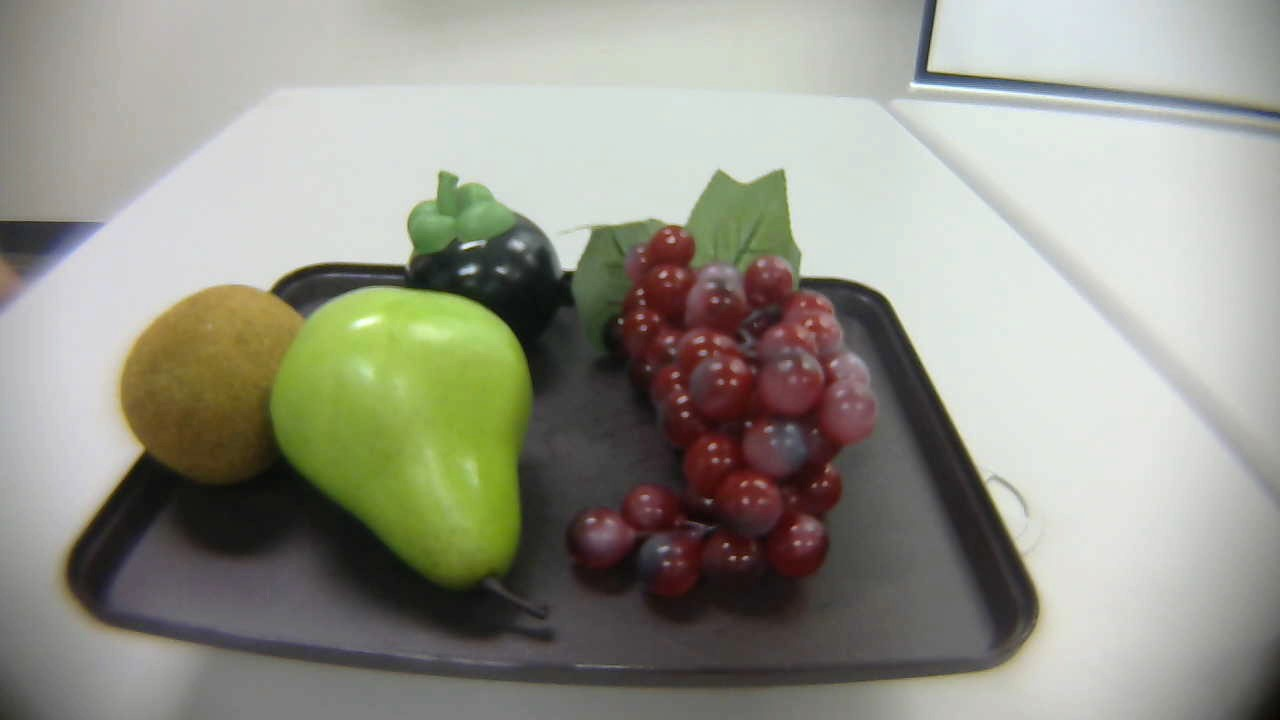grape: (572, 169, 885, 636)
green pear: (262, 286, 558, 636)
kiwi fruit: (92, 276, 327, 484)
mangosteen: (399, 168, 565, 356)
